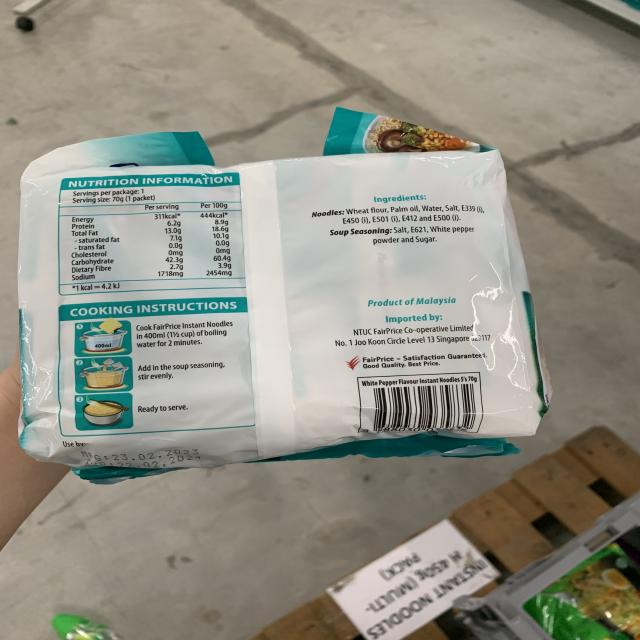object_name: (24, 161, 536, 445)
